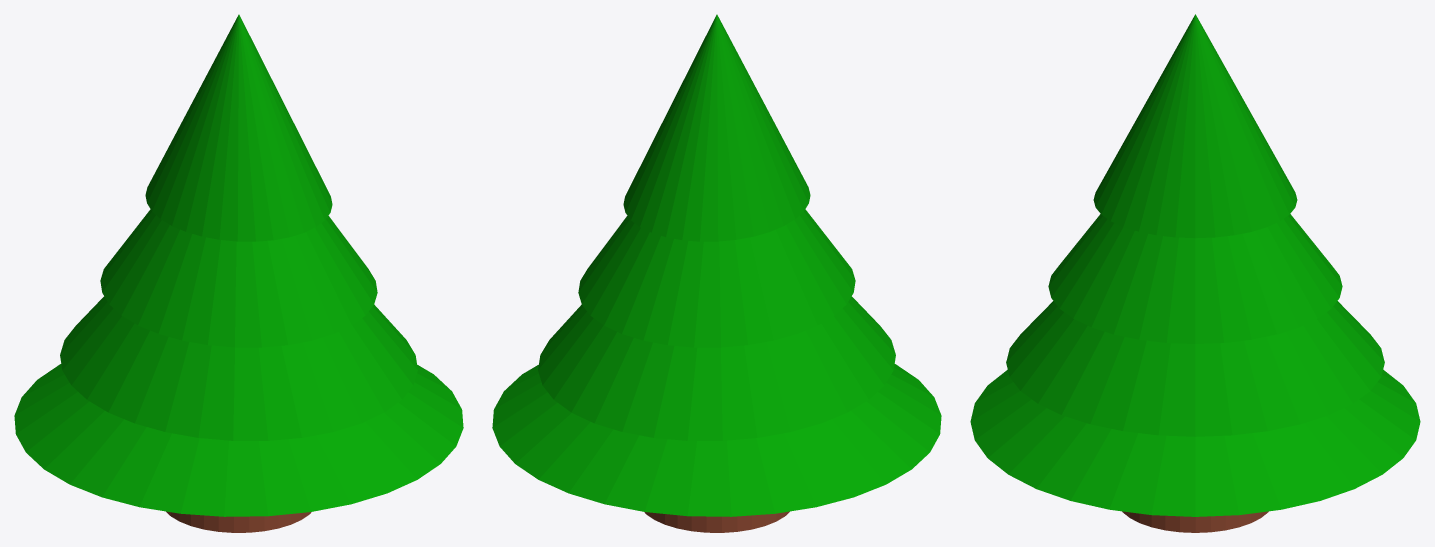
The model's file is tree.fbx.
3 views of the same model, side by side, from view 1: azimuth 30°, elevation 25°; view 2: azimuth 150°, elevation 25°; view 3: azimuth 270°, elevation 25° (orthographic).
Parts seen in each view (by area): view 1: Tree, Trunk; view 2: Tree, Trunk; view 3: Tree, Trunk.
Part boxes in pixels (x1,y1,x2,y2): Tree: (14, 14, 463, 516); Trunk: (166, 511, 311, 532); Tree: (492, 14, 941, 516); Trunk: (644, 511, 789, 532); Tree: (970, 14, 1420, 516); Trunk: (1122, 511, 1268, 532).
Bounding box in the file's own units: 200 × 238 × 200.
